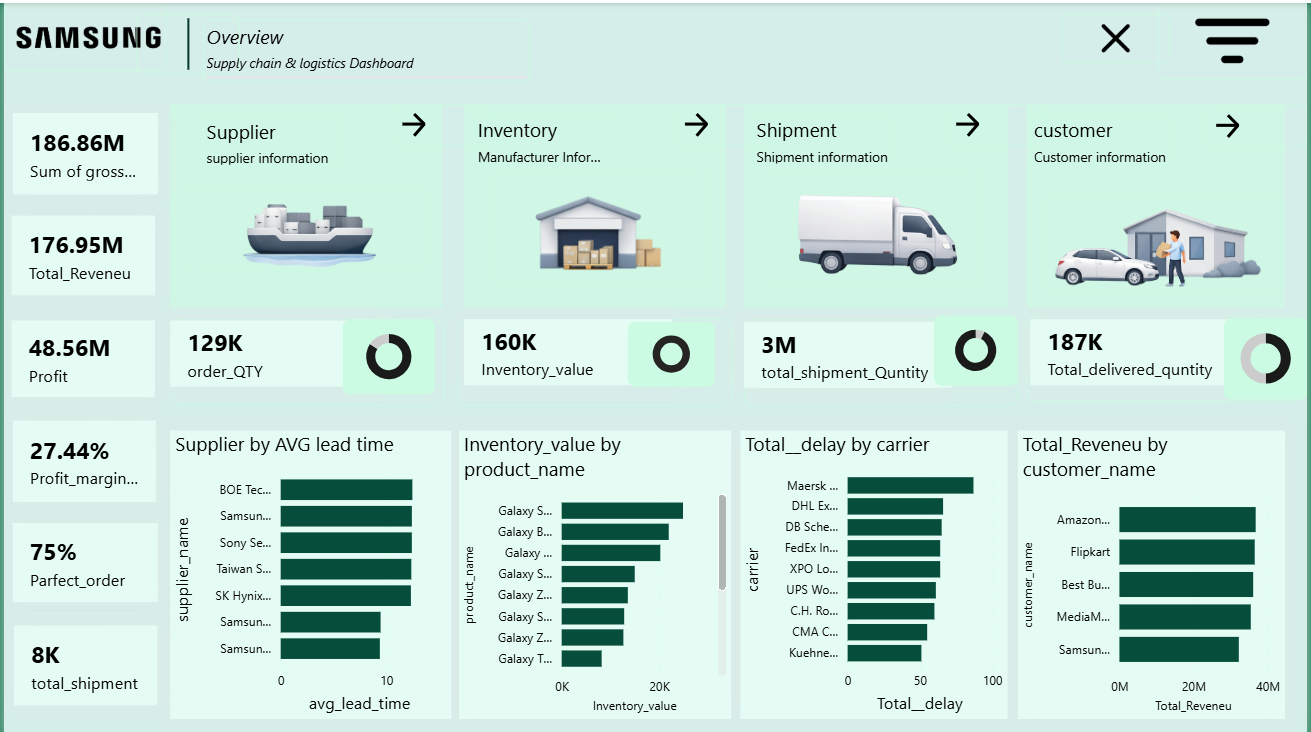

What the dashboard file says about the page in this screenshot:
{"tool":"powerbi","page":{"name":"Page 1","canvas":[1280,720],"ordinal":0},"visuals":[{"type":"shape","box":[163.2,99.4,267.5,200],"z":0},{"type":"image","box":[0,0,159.5,67.5],"z":1000},{"type":"image","box":[1132.5,0,147.2,74.8],"z":2000},{"type":"image","box":[180.4,177.9,233.1,85.9],"z":3000},{"type":"image","box":[1038,11,106.7,47.9],"z":4000},{"type":"actionButton","box":[381.6,99.4,99.4,40.5],"z":5000},{"type":"shape","title":"Supplier","box":[195.1,109.2,137.4,50.3],"z":6000},{"type":"shape","title":"Overview","box":[195.1,16,321.5,62.6],"z":7000},{"type":"shape","box":[130.1,11,101.8,58.9],"z":8000},{"type":"cardVisual","fields":{"Data":["fact_shipment.Total_Reveneu"]},"box":[7.4,208.6,141.1,78.5],"z":9000},{"type":"cardVisual","fields":{"Data":["fact_shipment.Profit"]},"box":[7.4,311.7,141.1,74.8],"z":10000},{"type":"cardVisual","fields":{"Data":["fact_shipment.Profit_margin %"]},"box":[8.6,409.8,141.1,79.8],"z":11000},{"type":"cardVisual","fields":{"Data":["fact_shipment.Parfect_order"]},"box":[8.6,510.4,142.3,77.3],"z":12000},{"type":"cardVisual","fields":{"Data":["fact_shipment.total_shipment"]},"box":[9.8,611,141.1,78.5],"z":13000},{"type":"cardVisual","fields":{"Data":["Sum(fact_sales.gross_revenue)"]},"box":[8.6,108,142.3,79.8],"z":14000},{"type":"shape","box":[163.2,310.2,268.7,85],"z":15000},{"type":"shape","box":[726.4,99.4,258.9,200],"z":16000},{"type":"shape","box":[451.5,99.4,256.4,200],"z":17000},{"type":"shape","box":[1003.7,99.4,254,200],"z":18000},{"type":"actionButton","box":[658.9,99.4,99.4,40.5],"z":19000},{"type":"actionButton","box":[925.2,99.4,99.4,40.5],"z":20000},{"type":"actionButton","box":[1180.4,100.6,99.4,40.5],"z":21000},{"type":"shape","title":"Inventory","box":[461.4,108,137.4,50.3],"z":22000},{"type":"shape","title":"Shipment","box":[735,108,137.4,50.3],"z":23000},{"type":"shape","title":"customer","box":[1007.4,108,137.4,50.3],"z":24000},{"type":"shape","box":[445.4,310.2,268.7,85],"z":25000},{"type":"shape","box":[726.4,310.4,268.7,84.7],"z":26000},{"type":"shape","box":[1003.7,306.5,268.7,85],"z":27000},{"type":"image","box":[481,163.2,212.3,115.3],"z":28000},{"type":"image","box":[749.7,163.2,211,115.3],"z":29000},{"type":"image","box":[1022.1,187.7,231.9,99.4],"z":30000},{"type":"cardVisual","fields":{"Data":["fact_shipment.order_QTY"]},"box":[163.2,311.4,203.7,65],"z":31000},{"type":"cardVisual","fields":{"Data":["fact_shipment.Inventory_value"]},"box":[451.5,310.2,203.7,65],"z":32000},{"type":"cardVisual","fields":{"Data":["fact_shipment.total_shipment_Quntity"]},"box":[726.4,312.9,203.7,65],"z":33000},{"type":"cardVisual","fields":{"Data":["fact_shipment.Total_delivered_quntity"]},"box":[1007.4,310.2,203.7,65],"z":34000},{"type":"clusteredBarChart","title":"Supplier by AVG lead time","fields":{"Y":["fact_shipment.avg_lead_time"],"Category":["dim_supplier.supplier_name"]},"box":[163.2,419.6,276.1,283],"z":35000},{"type":"clusteredBarChart","fields":{"Category":["dim_product.product_name"],"Y":["fact_shipment.Inventory_value"]},"box":[446.6,419.6,267.5,283],"z":36000},{"type":"clusteredBarChart","fields":{"Y":["fact_shipment.Total__delay"],"Category":["fact_shipment.carrier"]},"box":[722.7,419.6,262.6,283],"z":37000},{"type":"clusteredBarChart","fields":{"Y":["fact_shipment.Total_Reveneu"],"Category":["dim_customer.customer_name"]},"box":[995.1,419.6,262.6,283],"z":38000},{"type":"donutChart","fields":{"Y":["fact_shipment.Total__delay","fact_shipment.total_shipment"]},"box":[912.9,306.8,82.2,68.7],"z":39000},{"type":"donutChart","fields":{"Y":["fact_shipment.Total_delivered_quntity","fact_shipment.Total__delay","fact_shipment.total_delay"]},"box":[1197.6,309.2,82.2,79.8],"z":40000},{"type":"donutChart","fields":{"Y":["fact_shipment.order_QTY","fact_shipment.defect_rate"]},"box":[332.5,310.4,90.8,73.6],"z":41000},{"type":"donutChart","fields":{"Y":["fact_shipment.Inventory_value"]},"box":[612.3,312.9,85.9,63.8],"z":42000}]}

Visuals, with their boxes in screenshot pixels (x1, y1, x2, y2), scaled from the page's 1280x720 canvas onto the 1311x732 screenshot:
shape: bbox(167, 101, 441, 304)
image: bbox(0, 0, 163, 69)
image: bbox(1160, 0, 1310, 76)
image: bbox(185, 181, 424, 268)
image: bbox(1063, 11, 1172, 60)
actionButton: bbox(391, 101, 493, 142)
"Supplier" shape: bbox(200, 111, 341, 162)
"Overview" shape: bbox(200, 16, 529, 80)
shape: bbox(133, 11, 238, 71)
cardVisual - fact_shipment.Total_Reveneu: bbox(8, 212, 152, 292)
cardVisual - fact_shipment.Profit: bbox(8, 317, 152, 393)
cardVisual - fact_shipment.Profit_margin %: bbox(9, 417, 153, 498)
cardVisual - fact_shipment.Parfect_order: bbox(9, 519, 155, 597)
cardVisual - fact_shipment.total_shipment: bbox(10, 621, 155, 701)
cardVisual - Sum(fact_sales.gross_revenue): bbox(9, 110, 155, 191)
shape: bbox(167, 315, 442, 402)
shape: bbox(744, 101, 1009, 304)
shape: bbox(462, 101, 725, 304)
shape: bbox(1028, 101, 1288, 304)
actionButton: bbox(675, 101, 777, 142)
actionButton: bbox(948, 101, 1049, 142)
actionButton: bbox(1209, 102, 1310, 143)
"Inventory" shape: bbox(473, 110, 613, 161)
"Shipment" shape: bbox(753, 110, 894, 161)
"customer" shape: bbox(1032, 110, 1173, 161)
shape: bbox(456, 315, 731, 402)
shape: bbox(744, 316, 1019, 402)
shape: bbox(1028, 312, 1303, 398)
image: bbox(493, 166, 710, 283)
image: bbox(768, 166, 984, 283)
image: bbox(1047, 191, 1284, 292)
cardVisual - fact_shipment.order_QTY: bbox(167, 317, 376, 383)
cardVisual - fact_shipment.Inventory_value: bbox(462, 315, 671, 381)
cardVisual - fact_shipment.total_shipment_Quntity: bbox(744, 318, 953, 384)
cardVisual - fact_shipment.Total_delivered_quntity: bbox(1032, 315, 1240, 381)
"Supplier by AVG lead time" clusteredBarChart: bbox(167, 427, 450, 714)
clusteredBarChart - dim_product.product_name x fact_shipment.Inventory_value: bbox(457, 427, 731, 714)
clusteredBarChart - fact_shipment.Total__delay x fact_shipment.carrier: bbox(740, 427, 1009, 714)
clusteredBarChart - fact_shipment.Total_Reveneu x dim_customer.customer_name: bbox(1019, 427, 1288, 714)
donutChart - fact_shipment.Total__delay x fact_shipment.total_shipment: bbox(935, 312, 1019, 382)
donutChart - fact_shipment.Total_delivered_quntity x fact_shipment.Total__delay: bbox(1227, 314, 1310, 395)
donutChart - fact_shipment.order_QTY x fact_shipment.defect_rate: bbox(341, 316, 434, 390)
donutChart - fact_shipment.Inventory_value: bbox(627, 318, 715, 383)
